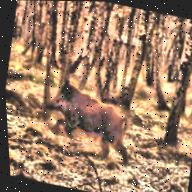boar: (37, 66, 152, 159)
